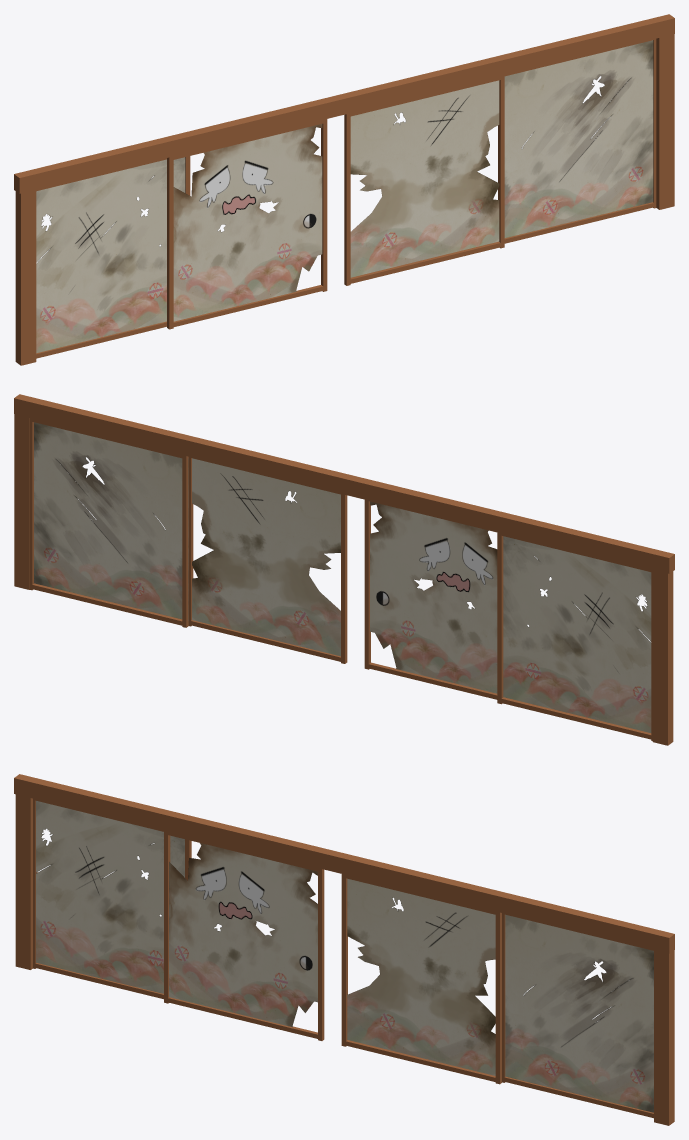
File: door_broken.fbx
3 views of the same model, one above another, from view 1: azimuth 30°, elevation 25°; view 2: azimuth 150°, elevation 25°; view 3: azimuth 330°, elevation 25° (orthographic).
Parts seen in each view (by area): view 1: pPlane1, pPlane3, pPlane4, pPlane2, top, left, pCube10 (×4), right, pCube21 (×3), pCube8 (×2), pCube9 (×2); view 2: pPlane1, pPlane2, pPlane4, pPlane3, top, pCube8 (×4), pCube10 (×4), left, right, pCube21 (×2), pCube9 (×2); view 3: pPlane1, pPlane3, pPlane4, pPlane2, top, pCube10 (×4), right, left, pCube8 (×3), pCube21 (×2), pCube9 (×2).
Part boxes in pixels (x1=…): pPlane1: x1=504, y1=40, x2=653, y2=237; pPlane3: x1=173, y1=124, x2=322, y2=321; pPlane4: x1=350, y1=80, x2=499, y2=277; pPlane2: x1=36, y1=157, x2=185, y2=353; top: x1=14, y1=14, x2=674, y2=193; left: x1=15, y1=190, x2=36, y2=365; pCube10 (×4): x1=36, y1=202, x2=655, y2=358; right: x1=656, y1=34, x2=674, y2=209; pCube21 (×3): x1=167, y1=39, x2=656, y2=329; pCube8 (×2): x1=321, y1=113, x2=350, y2=291; pCube9 (×2): x1=171, y1=76, x2=500, y2=160; pPlane1: x1=34, y1=422, x2=188, y2=620; pPlane2: x1=503, y1=536, x2=651, y2=732; pPlane4: x1=192, y1=458, x2=340, y2=656; pPlane3: x1=370, y1=501, x2=497, y2=693; top: x1=14, y1=394, x2=674, y2=573; pCube8 (×4): x1=182, y1=456, x2=503, y2=704; pCube10 (×4): x1=30, y1=583, x2=652, y2=739; left: x1=652, y1=570, x2=673, y2=745; right: x1=14, y1=414, x2=29, y2=589; pCube21 (×2): x1=30, y1=418, x2=193, y2=626; pCube9 (×2): x1=30, y1=418, x2=652, y2=572; pPlane1: x1=505, y1=914, x2=653, y2=1112; pPlane3: x1=169, y1=843, x2=317, y2=1027; pPlane4: x1=347, y1=878, x2=495, y2=1075; pPlane2: x1=36, y1=801, x2=184, y2=993; top: x1=14, y1=774, x2=674, y2=953; pCube10 (×4): x1=33, y1=963, x2=653, y2=1118; right: x1=654, y1=950, x2=674, y2=1125; left: x1=15, y1=794, x2=32, y2=969; pCube8 (×3): x1=318, y1=868, x2=505, y2=1082; pCube21 (×2): x1=164, y1=830, x2=501, y2=1084; pCube9 (×2): x1=168, y1=831, x2=497, y2=915.
Bounding box in the file's own units: 665 × 182 × 9.76.
